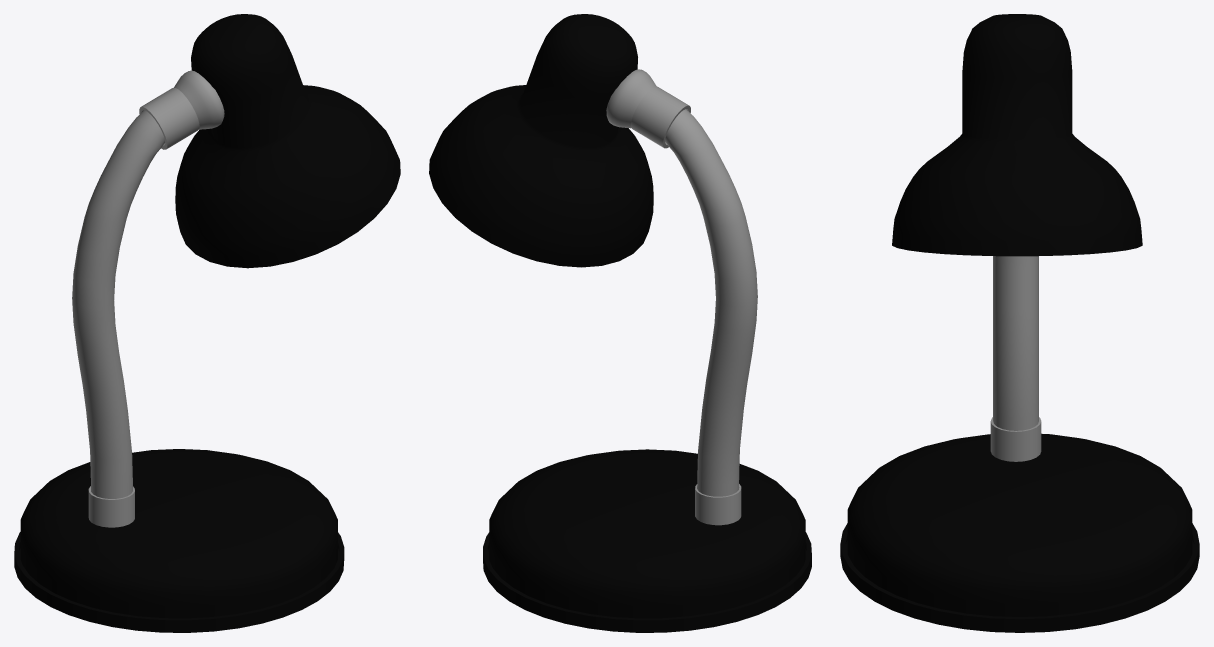
File: Prop_DeskLamp_Black.FBX
3 renders of one model, left to right at view 1: azimuth 30°, elevation 25°; view 2: azimuth 150°, elevation 25°; view 3: azimuth 270°, elevation 25°, orthographic. The views are drawn at different scales.
Parts seen in each view (by area): view 1: Baytek_Mall_Lamp; view 2: Baytek_Mall_Lamp; view 3: Baytek_Mall_Lamp.
Boxes of the visible parts, box(x1,y1,x2,y2) form: Baytek_Mall_Lamp: box(14, 14, 400, 632); Baytek_Mall_Lamp: box(429, 14, 811, 632); Baytek_Mall_Lamp: box(840, 14, 1199, 632).
Bounding box in the file's own units: 27.49 × 39.97 × 22.65.
